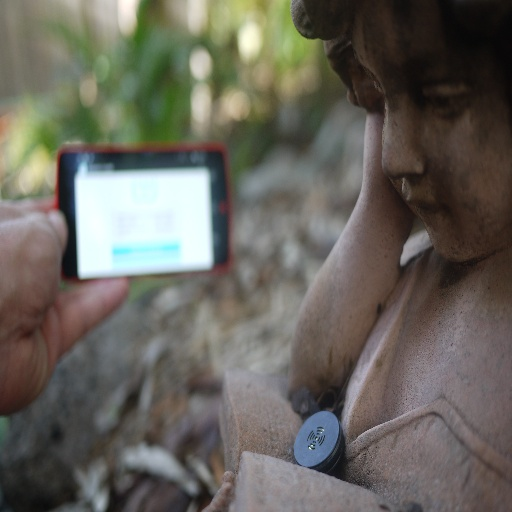hand: (278, 140, 432, 425), (0, 199, 130, 416)
